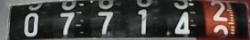digits: (57, 11, 82, 39), (170, 11, 190, 38), (210, 0, 230, 25), (97, 11, 113, 34), (23, 13, 38, 36), (137, 9, 147, 34)
